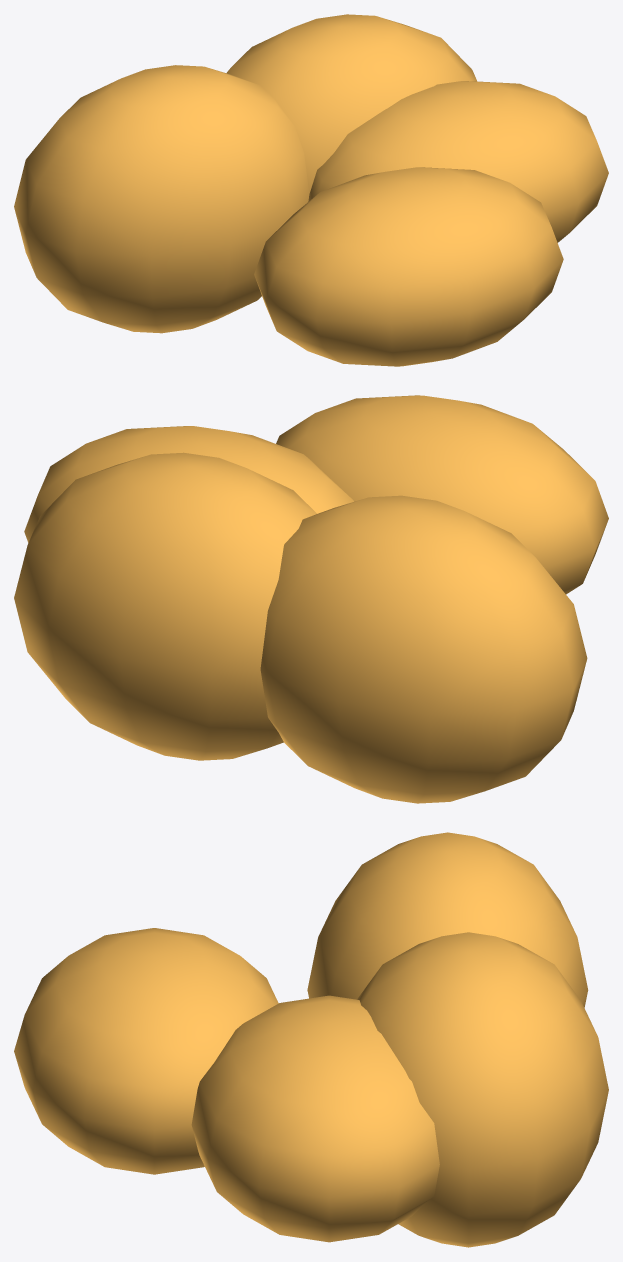
The model's file is payload_stored_value_a.obj.
3 renders of one model, top to bottom at view 1: azimuth 30°, elevation 25°; view 2: azimuth 150°, elevation 25°; view 3: azimuth 270°, elevation 25°, orthographic. The views are drawn at different scales.
Visible parts, largest first — view 1: payload_piece.073, payload_piece.074, payload_piece.072, payload_piece.075; view 2: payload_piece.073, payload_piece.075, payload_piece.074, payload_piece.072; view 3: payload_piece.075, payload_piece.072, payload_piece.074, payload_piece.073.
Part boxes in pixels (bbox=[...]): payload_piece.073: bbox=[14, 65, 309, 333]; payload_piece.074: bbox=[254, 167, 563, 366]; payload_piece.072: bbox=[308, 81, 608, 242]; payload_piece.075: bbox=[226, 14, 477, 193]; payload_piece.073: bbox=[260, 495, 587, 803]; payload_piece.075: bbox=[14, 452, 316, 760]; payload_piece.074: bbox=[276, 395, 608, 594]; payload_piece.072: bbox=[24, 426, 353, 542]; payload_piece.075: bbox=[357, 932, 608, 1247]; payload_piece.072: bbox=[191, 995, 439, 1242]; payload_piece.074: bbox=[14, 928, 278, 1174]; payload_piece.073: bbox=[307, 832, 588, 1007].
Bounding box in the file's own units: 0.5806 × 0.26 × 0.5085.
